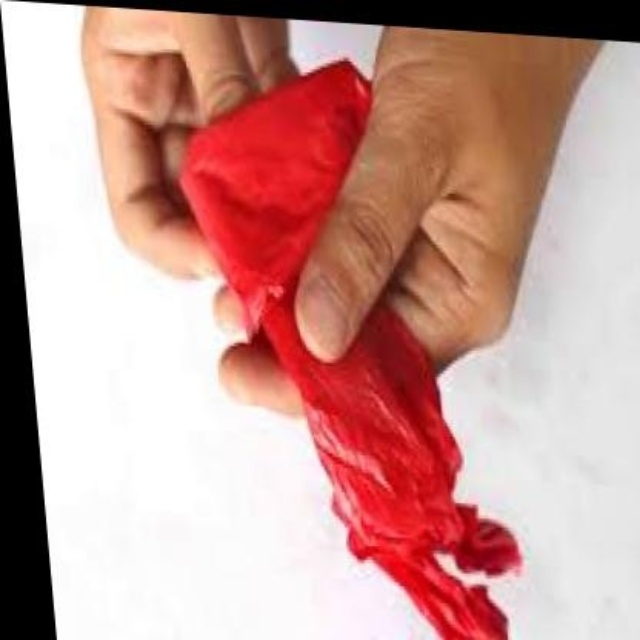trash: (183, 62, 520, 638)
